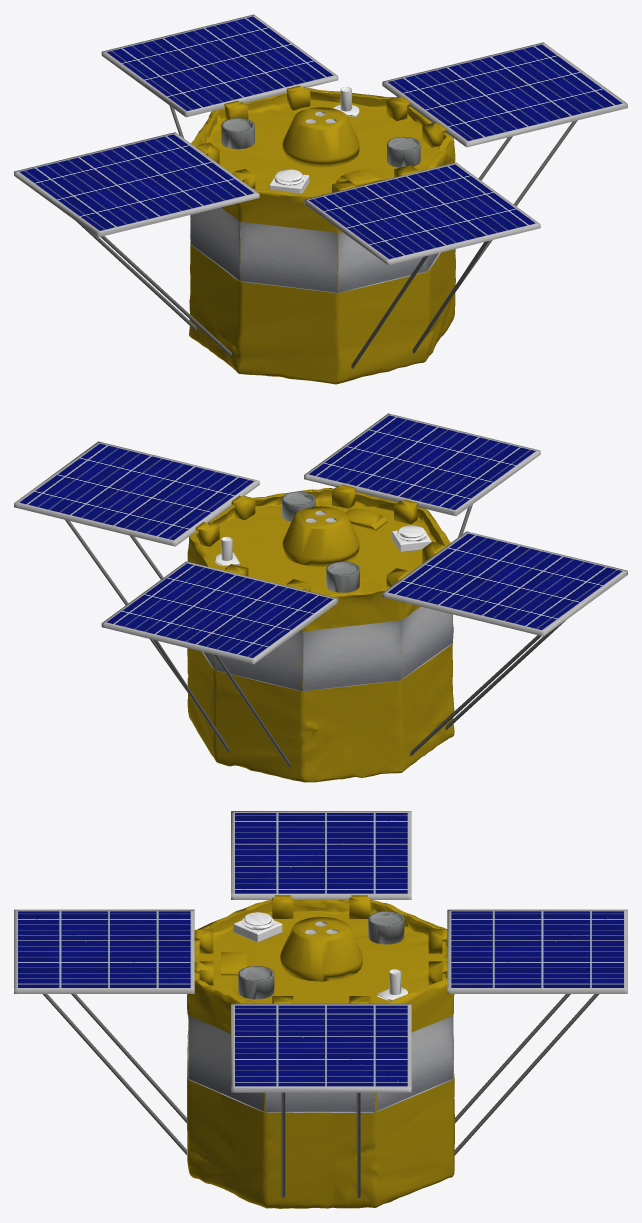
File: acrimsat-b.glb
3 views of the same model, one above another, from view 1: azimuth 30°, elevation 25°; view 2: azimuth 150°, elevation 25°; view 3: azimuth 270°, elevation 25° (orthographic). The views are drawn at different scales.
Visible parts, largest first — view 1: Acrimsat_vFINAL [Layer2], Acrimsat_vFINAL [Layer1], Acrimsat_vFINAL [Layer7], Acrimsat_vFINAL [Layer3], Acrimsat_vFINAL [Layer5], Acrimsat_vFINAL [Layer6]; view 2: Acrimsat_vFINAL [Layer2], Acrimsat_vFINAL [Layer1], Acrimsat_vFINAL [Layer7], Acrimsat_vFINAL [Layer3], Acrimsat_vFINAL [Layer5], Acrimsat_vFINAL [Layer6]; view 3: Acrimsat_vFINAL [Layer2], Acrimsat_vFINAL [Layer1], Acrimsat_vFINAL [Layer7], Acrimsat_vFINAL [Layer3], Acrimsat_vFINAL [Layer5], Acrimsat_vFINAL [Layer6].
Boxes of the visible parts, x1=… form: Acrimsat_vFINAL [Layer2]: x1=20, y1=16, x2=622, y2=259; Acrimsat_vFINAL [Layer1]: x1=189, y1=85, x2=455, y2=384; Acrimsat_vFINAL [Layer7]: x1=14, y1=14, x2=627, y2=368; Acrimsat_vFINAL [Layer3]: x1=190, y1=207, x2=440, y2=292; Acrimsat_vFINAL [Layer5]: x1=221, y1=111, x2=420, y2=167; Acrimsat_vFINAL [Layer6]: x1=269, y1=87, x2=359, y2=193; Acrimsat_vFINAL [Layer2]: x1=19, y1=415, x2=622, y2=657; Acrimsat_vFINAL [Layer1]: x1=187, y1=484, x2=454, y2=782; Acrimsat_vFINAL [Layer7]: x1=14, y1=413, x2=627, y2=767; Acrimsat_vFINAL [Layer3]: x1=202, y1=606, x2=453, y2=691; Acrimsat_vFINAL [Layer5]: x1=282, y1=491, x2=359, y2=592; Acrimsat_vFINAL [Layer6]: x1=215, y1=525, x2=431, y2=566; Acrimsat_vFINAL [Layer2]: x1=18, y1=813, x2=623, y2=1086; Acrimsat_vFINAL [Layer1]: x1=187, y1=895, x2=454, y2=1208; Acrimsat_vFINAL [Layer7]: x1=14, y1=811, x2=627, y2=1198; Acrimsat_vFINAL [Layer3]: x1=187, y1=1015, x2=453, y2=1112; Acrimsat_vFINAL [Layer5]: x1=238, y1=911, x2=404, y2=999; Acrimsat_vFINAL [Layer6]: x1=233, y1=912, x2=407, y2=1000.
Size of the model in its own units: 11051 by 4223 by 10351.
8 materials, 8 textured.
